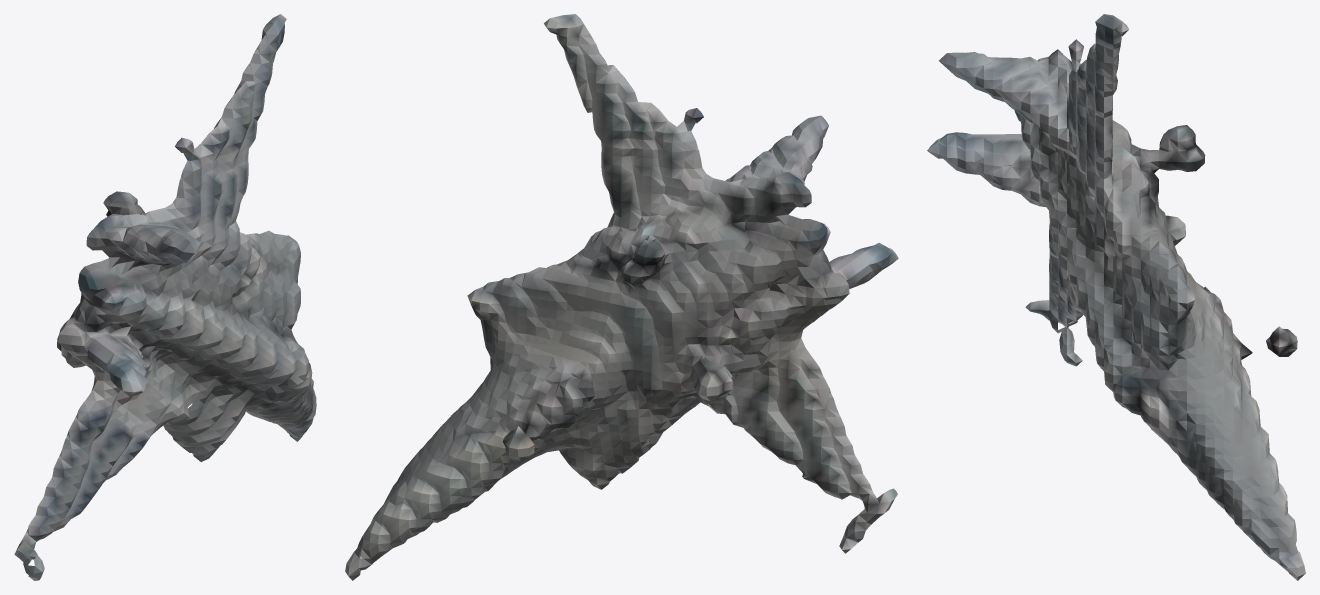
File: 000007_aircraft_jet_airplane_10240_128.glb
The picture shows the model from 3 angles, left to right: view 1: azimuth 30°, elevation 25°; view 2: azimuth 150°, elevation 25°; view 3: azimuth 270°, elevation 25°; orthographic projection. The views are drawn at different scales.
Visible parts, largest first — view 1: world; view 2: world; view 3: world.
Part boxes in pixels (x1=…): world: x1=14, y1=14, x2=316, y2=580; world: x1=345, y1=14, x2=898, y2=580; world: x1=927, y1=14, x2=1305, y2=580.
Bounding box in the file's own units: 0.6955 × 0.8338 × 0.5629.
